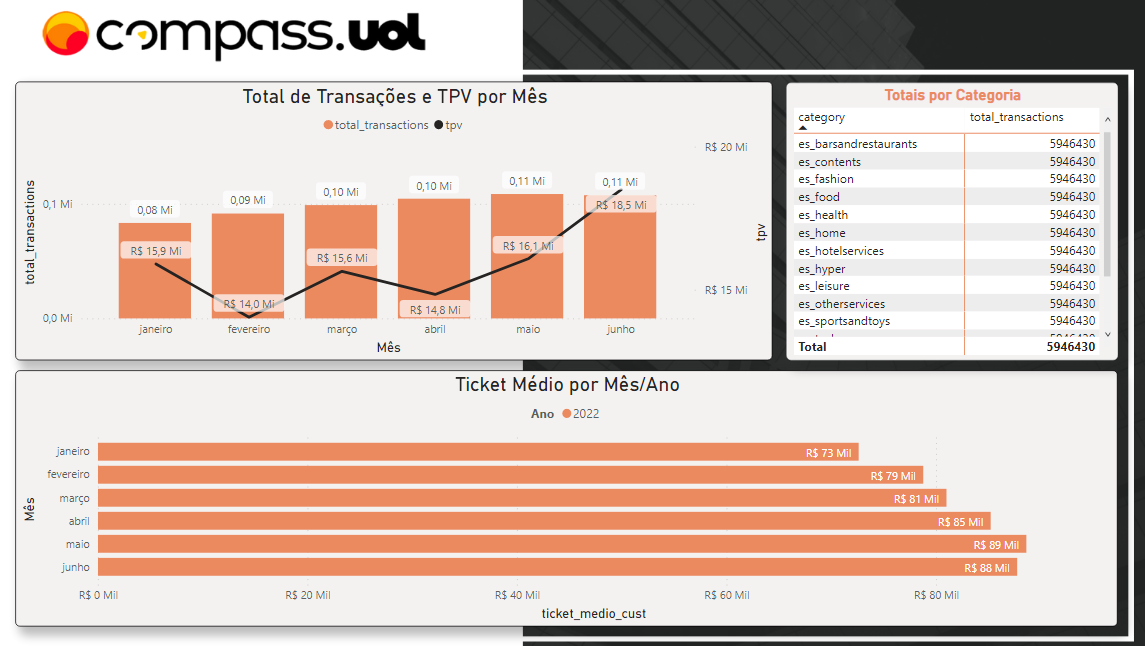

This screenshot's page, from the dashboard's own definition file:
{"tool":"powerbi","page":{"name":"Página 1","canvas":[1280,720],"ordinal":0},"visuals":[{"type":"lineStackedColumnComboChart","title":"Total de Transações e TPV por Mês","fields":{"Category":["fact_merchant_kpi.date.Variation.Hierarquia de datas.Mês"],"Y":["Sum(fact_merchant_kpi.total_transactions)"],"Y2":["Sum(fact_merchant_kpi.tpv)"]},"box":[34.3,96.1,832.3,306.3],"z":0},{"type":"clusteredBarChart","title":"Ticket Médio por Mês/Ano","fields":{"Category":["fact_customer_kpi.date.Variation.Hierarquia de datas.Mês"],"Series":["fact_customer_kpi.date.Variation.Hierarquia de datas.Ano"],"Y":["fact_customer_kpi.ticket_medio_cust"]},"box":[34.3,413.4,1211.3,281.5],"z":1000},{"type":"pivotTable","title":"Totais por Categoria","fields":{"Rows":["dim_merchant_category.category"],"Values":["Sum(fact_customer_kpi.total_transactions)"]},"box":[881.7,97.5,363.9,304.9],"z":4000}]}

Visuals, with their boxes in screenshot pixels (x1, y1, x2, y2), scaled from the page's 1280x720 canvas onto the 1145x646 screenshot:
"Total de Transações e TPV por Mês" lineStackedColumnComboChart: select_region(31, 86, 775, 361)
"Ticket Médio por Mês/Ano" clusteredBarChart: select_region(31, 371, 1114, 623)
"Totais por Categoria" pivotTable: select_region(789, 87, 1114, 361)
